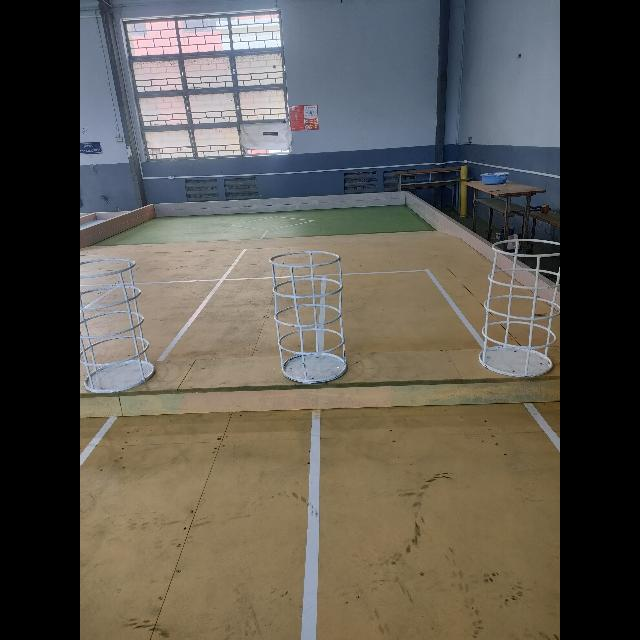S: (479, 236, 560, 379), (269, 250, 348, 385), (80, 257, 154, 395)
